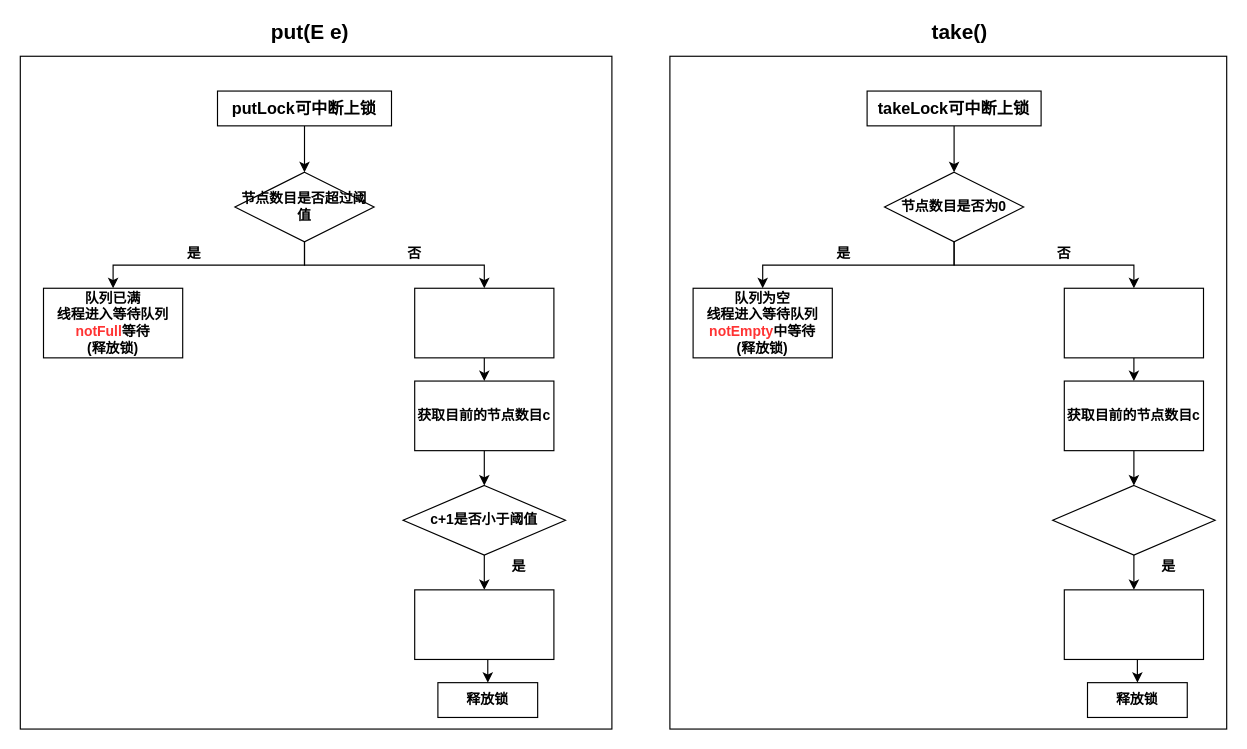
Some shapes in this 1247 by 749 pixel diagram are drawn without their labels. The shapes that lost their labels are listed below. From the top down, each one's centre as x and y in pixels, then its label:
At pixel 484 322: "调用enqueue()—— 将元素插入队列".
At pixel 1133 322: "调用dequeue()——取出队列首元素".
At pixel 1133 519: "c是否>1".
At pixel 484 624: "唤醒 notFull 中的一个线程，让其继续添加元素".
At pixel 1133 624: "唤醒 notEmpty 中的一个线程，让其取元素".
